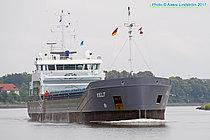Ship: (22, 4, 176, 129)
